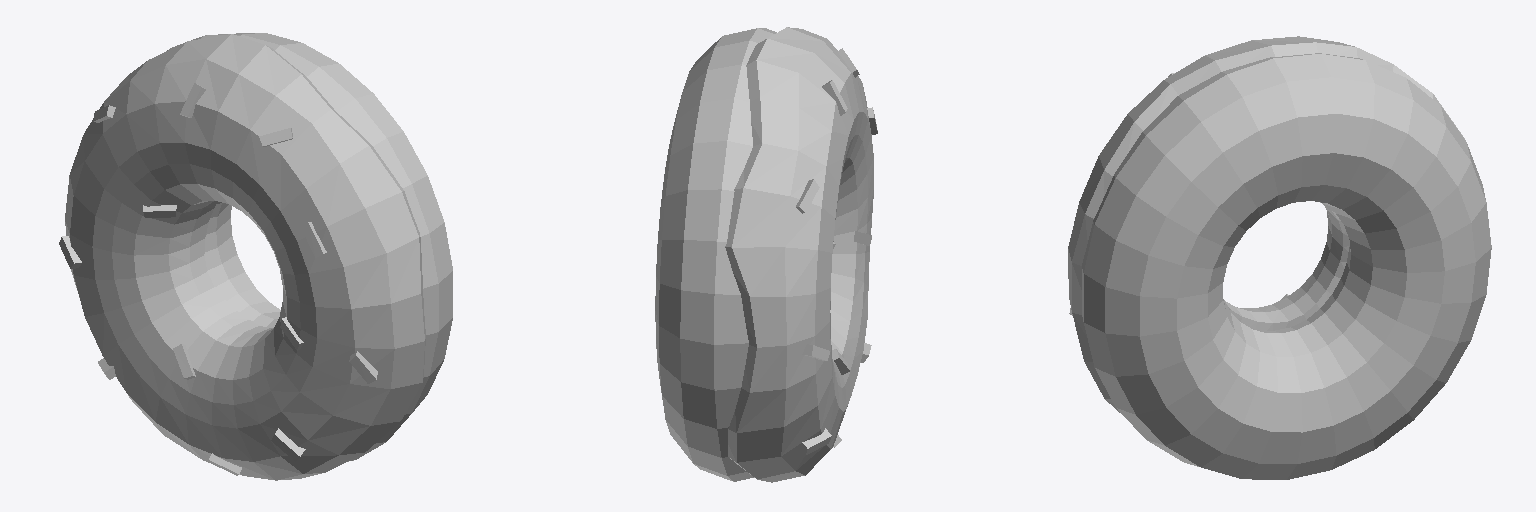
The model's file is donut.obj.
3 renders of one model, left to right at view 1: azimuth 30°, elevation 25°; view 2: azimuth 150°, elevation 25°; view 3: azimuth 270°, elevation 25°, orthographic.
Parts seen in each view (by area): view 1: Donut_Torus_001; view 2: Donut_Torus_001; view 3: Donut_Torus_001.
Boxes of the visible parts, x1=… form: Donut_Torus_001: x1=59, y1=33, x2=452, y2=480; Donut_Torus_001: x1=655, y1=27, x2=877, y2=482; Donut_Torus_001: x1=1068, y1=36, x2=1491, y2=479.
Bounding box in the file's own units: 9.45 × 15.68 × 14.13.